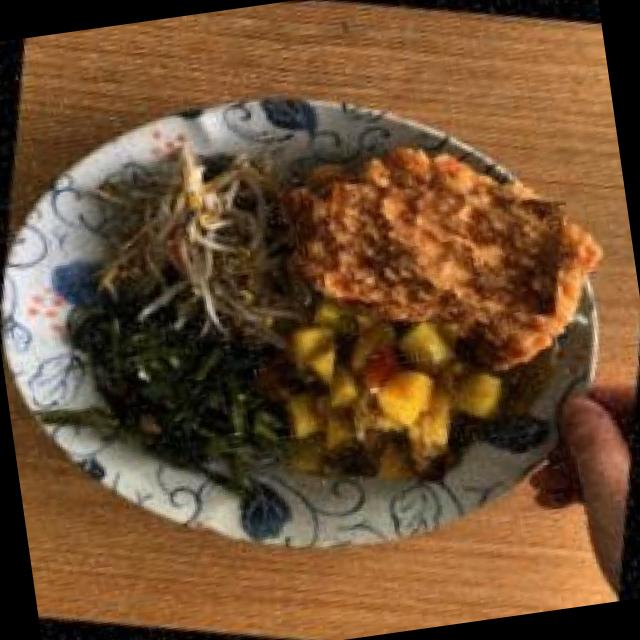curry: (293, 302, 485, 494)
fried_chicken: (300, 147, 582, 350)
mung_bean_sprouts: (82, 144, 299, 342)
water_spinach: (101, 311, 276, 462)
